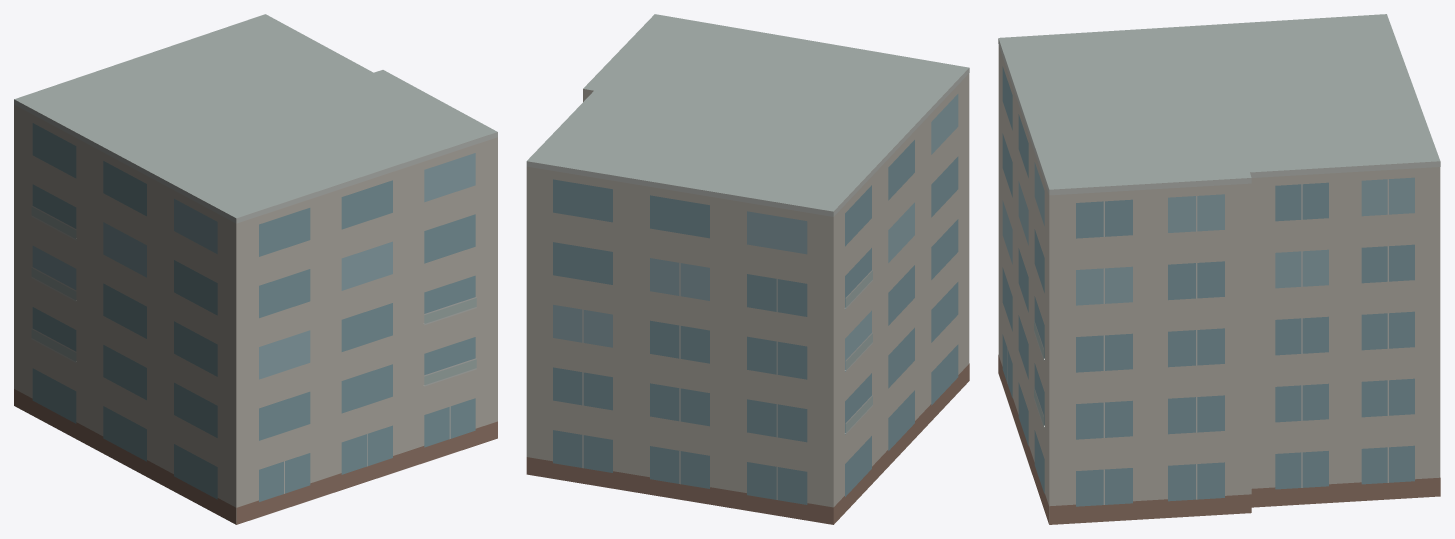
File: survey-upis-32656459.glb
3 renders of one model, left to right at view 1: azimuth 30°, elevation 25°; view 2: azimuth 150°, elevation 25°; view 3: azimuth 270°, elevation 25°, orthographic. The views are drawn at different scales.
Visible parts, largest first — view 1: survey-upis-32656459.tmp; view 2: survey-upis-32656459.tmp; view 3: survey-upis-32656459.tmp.
Part boxes in pixels (left/top/right/bottom): survey-upis-32656459.tmp: left=14, top=14, right=497, bottom=524; survey-upis-32656459.tmp: left=526, top=14, right=969, bottom=524; survey-upis-32656459.tmp: left=998, top=14, right=1440, bottom=524.
Bounding box in the file's own units: 16.01 × 14.23 × 17.02.
